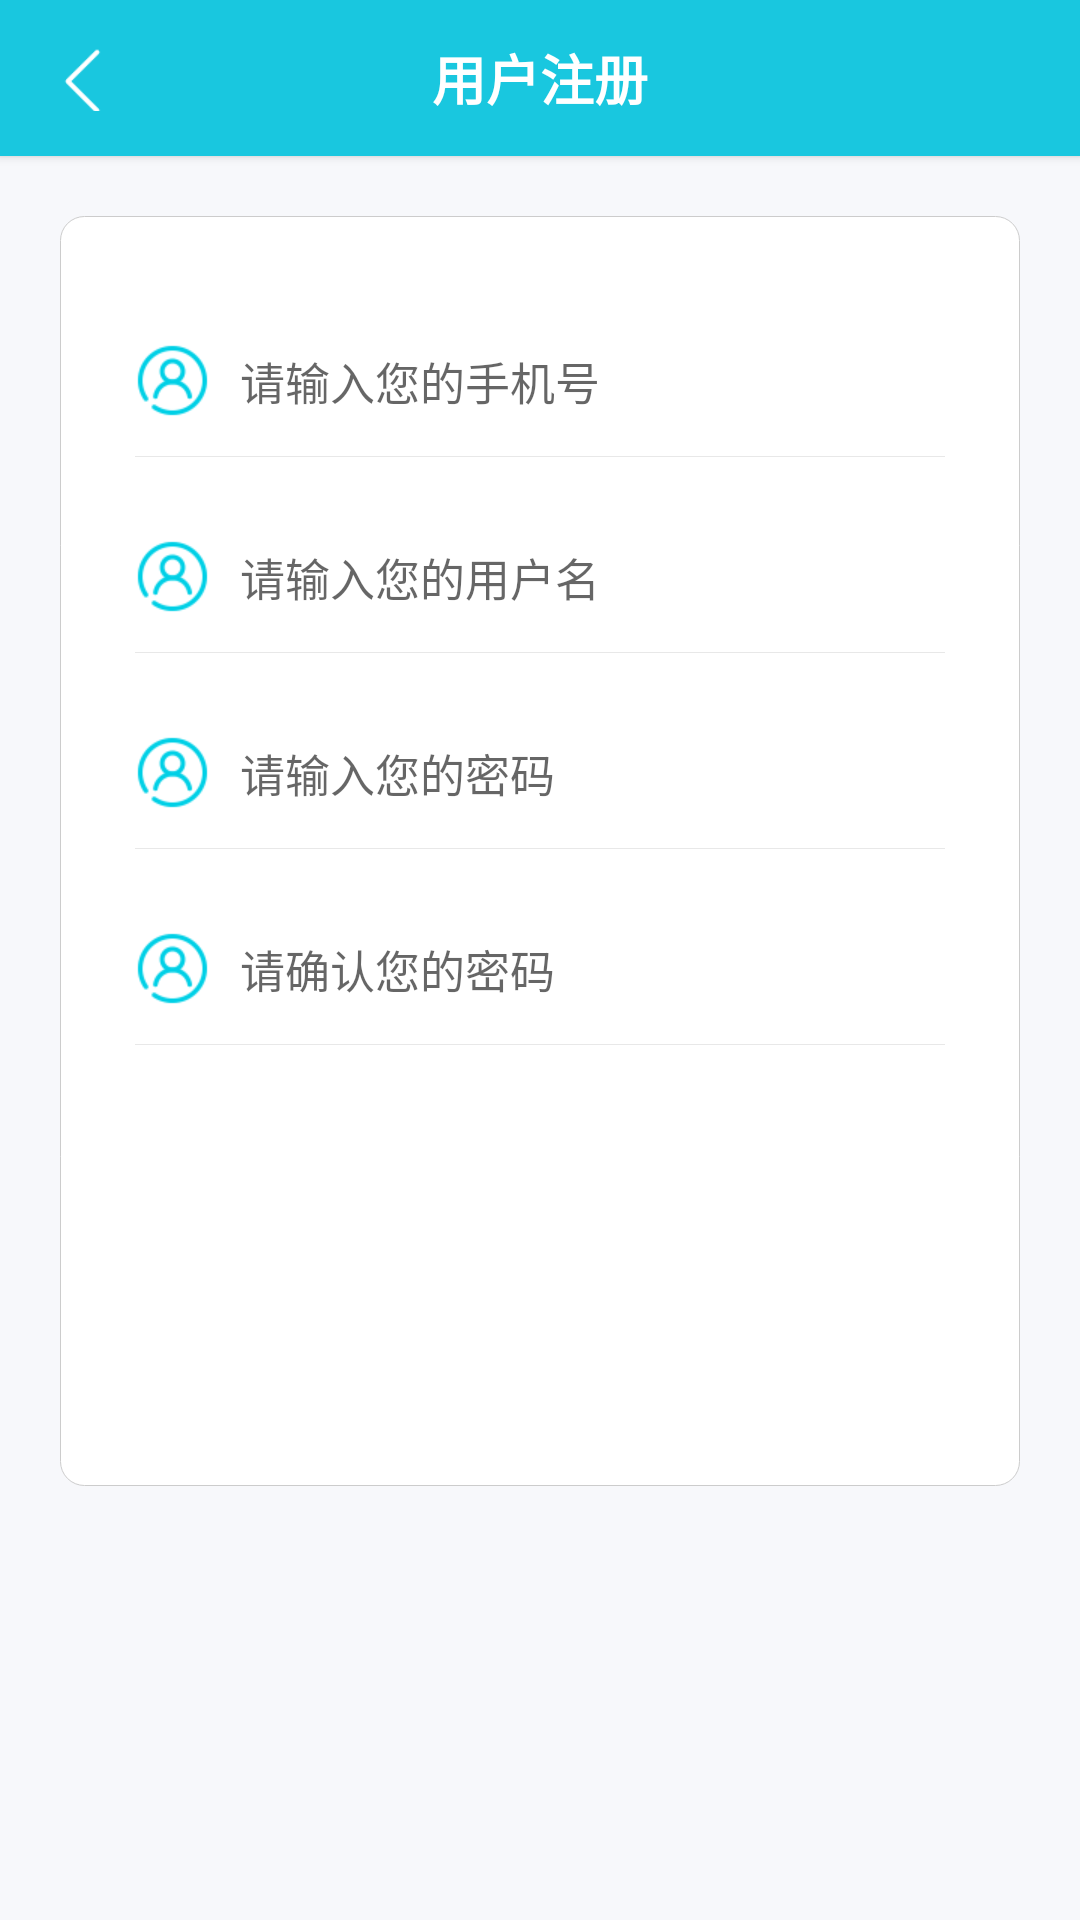

Icon click points for this 1080px x 1920px phone screenshot, format [x,y]:
return withe: [82,80]
